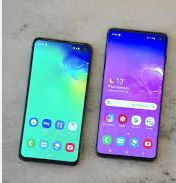mobil: (95, 26, 168, 161), (18, 34, 92, 166)
